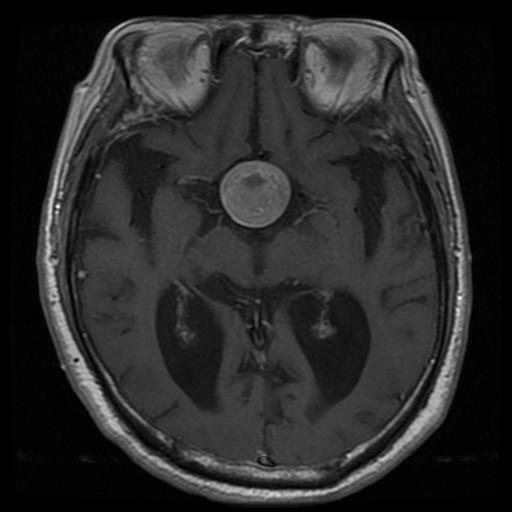Tumour-Pituitary: (221, 161, 292, 231)
